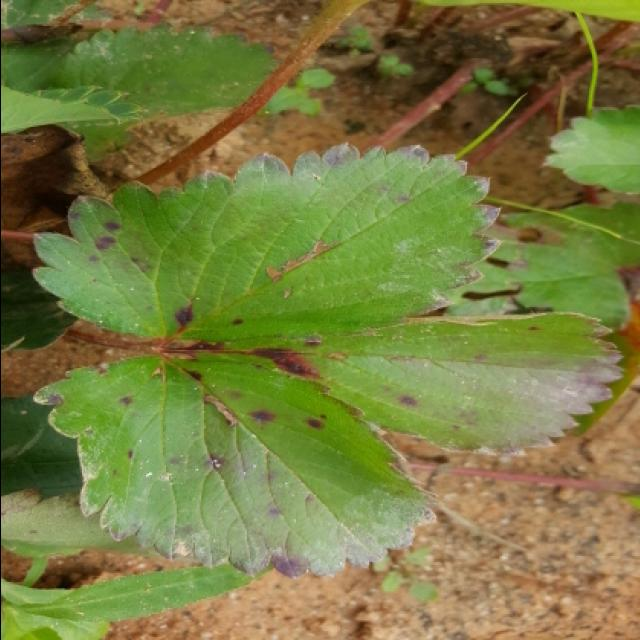Leaf Spot: (30, 140, 503, 347), (28, 349, 440, 580), (188, 312, 625, 458), (2, 486, 154, 559)
